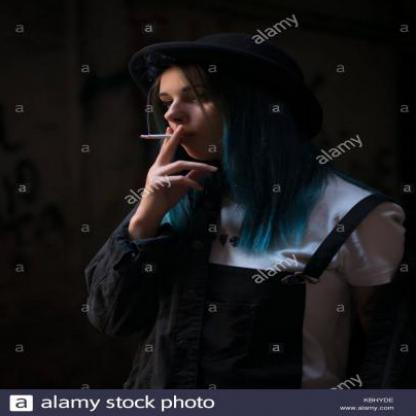cigarette: (138, 132, 174, 140)
person: (105, 31, 402, 402)
